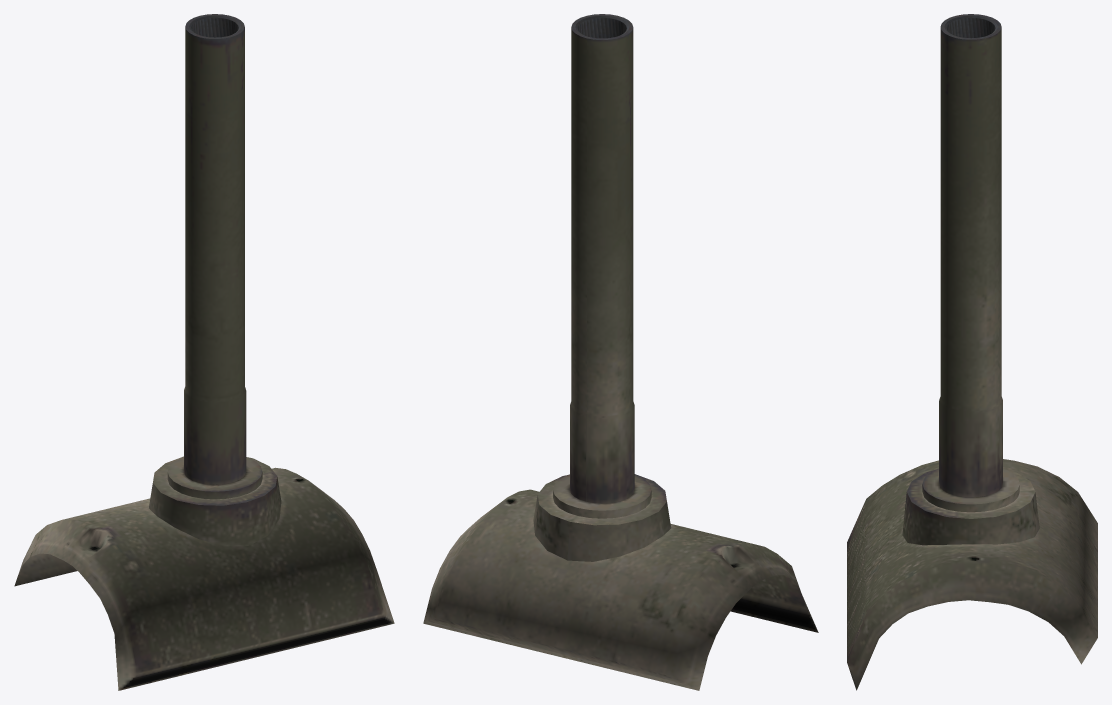
Rendered from Gun_02.glb.
The picture shows the model from 3 angles, left to right: view 1: azimuth 30°, elevation 25°; view 2: azimuth 150°, elevation 25°; view 3: azimuth 270°, elevation 25°; orthographic projection. The views are drawn at different scales.
Parts seen in each view (by area): view 1: set_0_group_0; view 2: set_0_group_0; view 3: set_0_group_0.
Part boxes in pixels (<box>): set_0_group_0: <box>14,14,394,690</box>; set_0_group_0: <box>423,14,818,690</box>; set_0_group_0: <box>847,14,1097,690</box>.
Size of the model in its own units: 0.8174 by 1.66 by 0.6263.
Materials: 1 (1 with a texture image).
